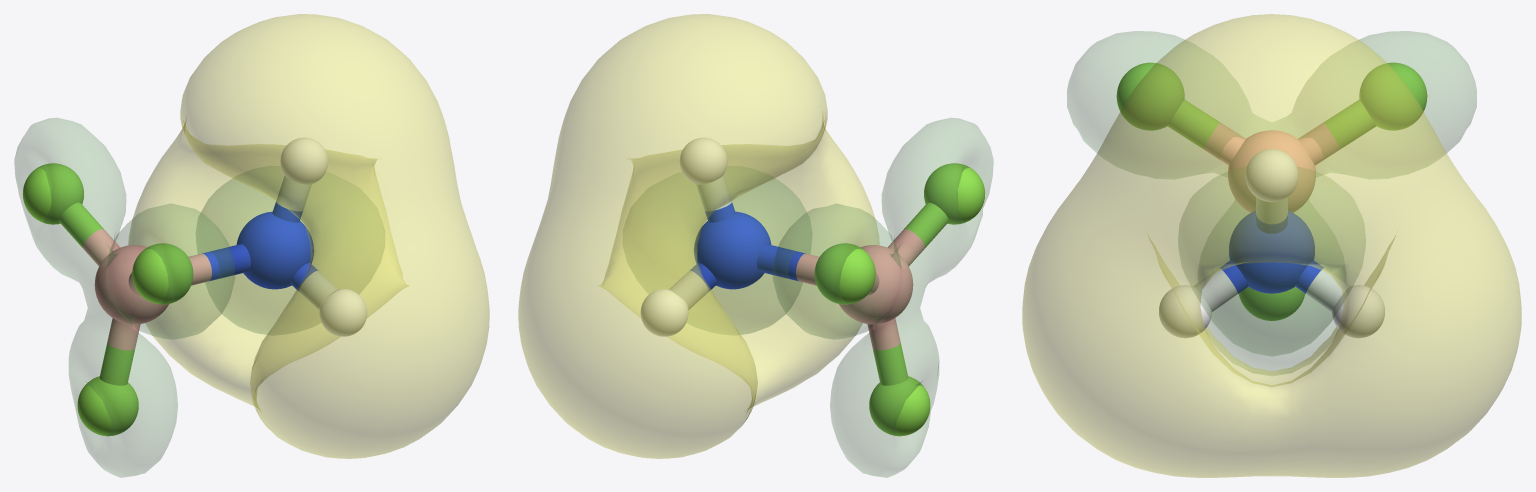
3 views of the same model, side by side, from view 1: azimuth 30°, elevation 25°; view 2: azimuth 150°, elevation 25°; view 3: azimuth 270°, elevation 25° (orthographic). The views are drawn at different scales.
Visible parts, largest first — view 1: surface, surface.001, atoms.001, atoms.003, atoms.002, atoms, bonds, bonds.001, bonds.003, bonds.002; view 2: surface, surface.001, atoms.001, atoms.003, atoms.002, atoms, bonds, bonds.001, bonds.003, bonds.002; view 3: surface, surface.001, atoms.001, atoms.002, atoms.003, atoms, bonds.002, bonds.001, bonds, bonds.003.
Part boxes in pixels (x1,y1,x2,y2): surface: (128, 14, 489, 458); surface.001: (14, 118, 384, 477); atoms.001: (23, 163, 193, 436); atoms.003: (236, 211, 313, 289); atoms.002: (280, 137, 367, 336); atoms: (94, 245, 168, 324); bonds: (82, 229, 211, 350); bonds.001: (59, 202, 134, 385); bonds.003: (202, 202, 317, 290); bonds.002: (276, 176, 337, 309); surface: (518, 14, 879, 458); surface.001: (623, 118, 993, 477); atoms.001: (814, 163, 985, 436); atoms.003: (694, 211, 771, 289); atoms.002: (640, 137, 727, 336); atoms: (839, 245, 913, 324); bonds: (796, 229, 925, 350); bonds.001: (873, 202, 948, 385); bonds.003: (690, 202, 805, 290); bonds.002: (670, 176, 731, 309); surface: (1022, 14, 1521, 477); surface.001: (1067, 31, 1476, 375); atoms.001: (1116, 62, 1427, 320); atoms.002: (1159, 149, 1384, 338); atoms.003: (1229, 210, 1314, 293); atoms: (1228, 130, 1315, 212); bonds.002: (1194, 197, 1349, 311); bonds.001: (1168, 100, 1375, 148); bonds: (1203, 122, 1340, 165); bonds.003: (1220, 215, 1323, 293).
Bounding box in the file's own units: 4.16 × 4.62 × 4.7.
